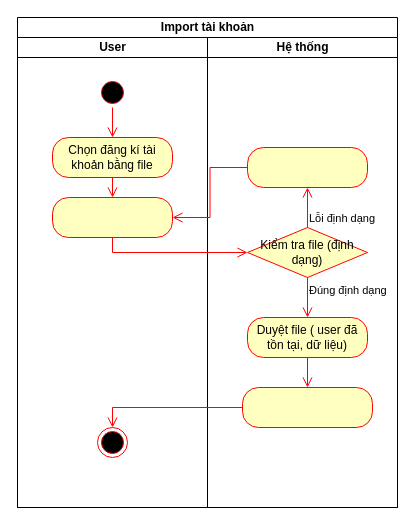
This 415x525 diagram has some shape labels left out. Each missing label, with the centre of its shape:
"Chọn file và nhấn import" belongs at pixel 112 217.
"Thông báo file không hợp lệ" belongs at pixel 307 167.
"Thông báo số lượng thành công, tài khoản đẫ đăng kí thành công" belongs at pixel 307 407.
